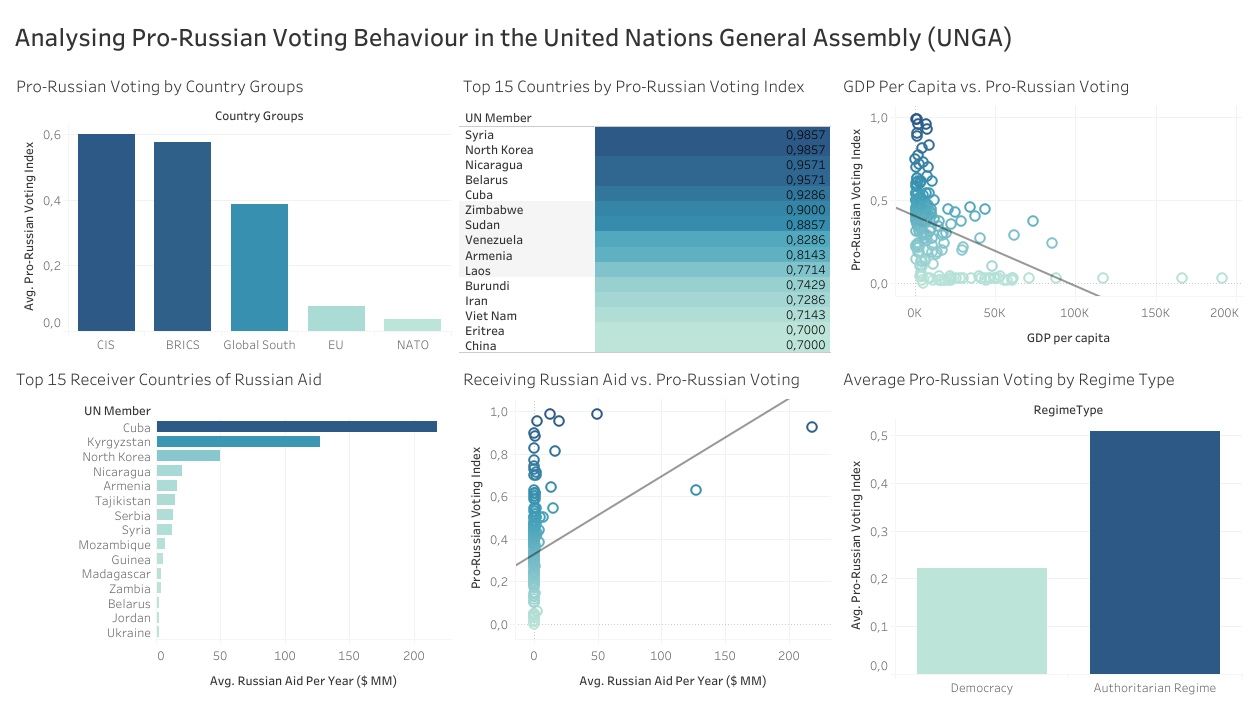

This screenshot's page, from the dashboard's own definition file:
{"tool":"tableau","page":{"name":"Project Dashboard","canvas":[1000,1000],"units":"permille","ordinal":0},"visuals":[{"type":"title","box":[4.2,10,991.5,69.9]},{"type":"worksheet","title":"target by groups","mark":"Automatic","rows":["pro_rus_index"],"cols":["Calculation_1549519800682635265"],"box":[4.2,79.9,357.7,419.5]},{"type":"worksheet","title":"target","mark":"Square","rows":["un_member"],"box":[361.9,79.9,304.6,419.5]},{"type":"worksheet","title":"gdp + voting","mark":"Automatic","rows":["pro_rus_index"],"cols":["percap_gdp"],"box":[666.5,79.9,329.2,419.5]},{"type":"worksheet","title":"top aid","mark":"Bar","rows":["un_member"],"cols":["rus_aid_mean"],"box":[4.2,499.4,357.7,490.6]},{"type":"worksheet","title":"aid + voting","mark":"Automatic","rows":["pro_rus_index"],"cols":["rus_aid_mean"],"box":[361.9,499.4,304.6,490.6]},{"type":"worksheet","title":"regime + voting","mark":"Automatic","rows":["pro_rus_index"],"cols":["reg_type"],"box":[666.5,499.4,329.2,490.6]}]}

Visuals, with their boxes on the dashboard's canvas, which has no fixed pixel size, in thousandths of its width and height (x1, y1, x2, y2). These are canvas units, not pixel positions in the 1253x707 screenshot, which may show the page scaled, cropped or inside an application window:
title: (x1=4, y1=10, x2=996, y2=80)
"target by groups" worksheet: (x1=4, y1=80, x2=362, y2=499)
"target" worksheet (Square marks): (x1=362, y1=80, x2=666, y2=499)
"gdp + voting" worksheet: (x1=666, y1=80, x2=996, y2=499)
"top aid" worksheet (Bar marks): (x1=4, y1=499, x2=362, y2=990)
"aid + voting" worksheet: (x1=362, y1=499, x2=666, y2=990)
"regime + voting" worksheet: (x1=666, y1=499, x2=996, y2=990)
